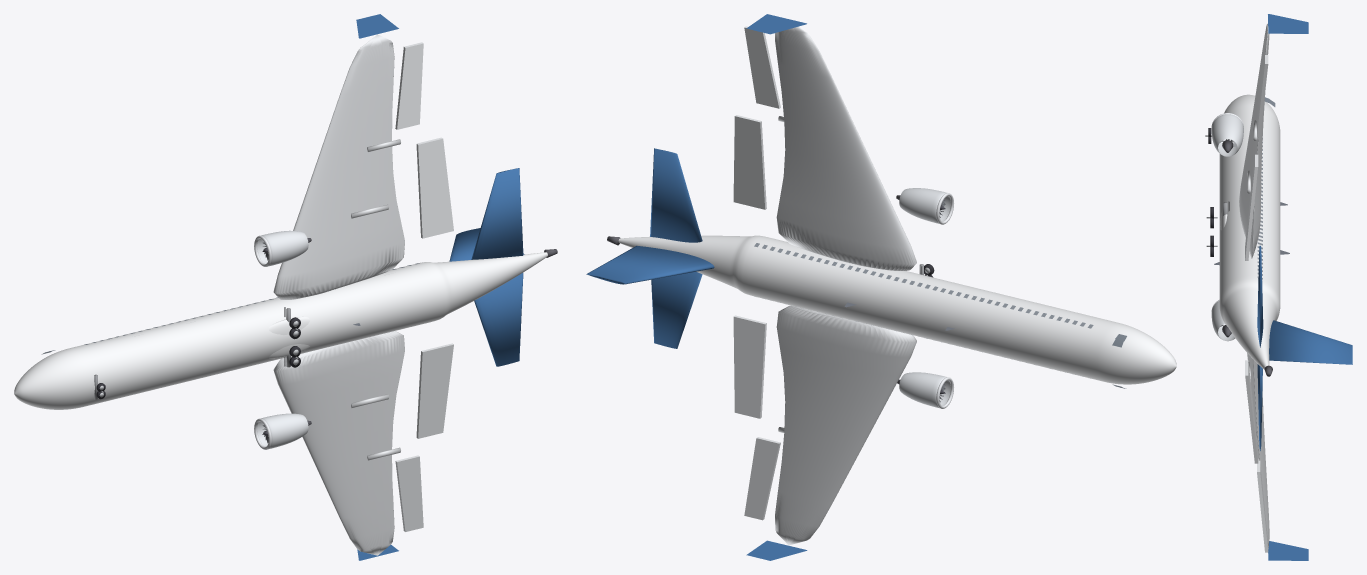
File: b737-max8.glb
The picture shows the model from 3 angles, left to right: view 1: azimuth 30°, elevation 25°; view 2: azimuth 150°, elevation 25°; view 3: azimuth 270°, elevation 25°; orthographic projection.
Visible parts, largest first — view 1: Fuselage, Wing_R, Wing_L, HStab_R, HStab_L, Flap_R, Flap_L, Aileron_R, Aileron_L, Nacelle_-1_0, Nacelle_1_0, Fin (+1 smaller); view 2: Fuselage, Wing_L, Wing_R, HStab_R, Flap_L, Fin, HStab_L, Flap_R, Aileron_L, Aileron_R, Nacelle_-1_0, Nacelle_1_0 (+1 smaller); view 3: Fuselage, Fin, Wing_R, Wing_L, Nacelle_1_0, Sharklet_R, Sharklet_L, Flap_R, Flap_L, HStab_R, Aileron_L, Aileron_R (+2 smaller).
Part boxes in pixels (x1,y1,x2,y2): Fuselage: (14,252,547,409); Wing_R: (273,34,404,299); Wing_L: (273,331,404,555); HStab_R: (471,168,523,259); HStab_L: (474,273,523,366); Flap_R: (416,137,453,238); Flap_L: (416,343,453,438); Aileron_R: (395,42,423,129); Aileron_L: (395,455,423,531); Nacelle_-1_0: (257,413,308,449); Nacelle_1_0: (257,230,308,266); Fin: (449,228,524,261); Fuselage: (618,235,1176,384); Wing_L: (775,305,916,545); Wing_R: (775,26,916,270); HStab_R: (650,148,702,242); Flap_L: (733,315,766,418); Fin: (586,245,714,284); HStab_L: (651,271,702,348); Flap_R: (733,115,766,209); Aileron_L: (744,437,780,520); Aileron_R: (744,26,780,108); Nacelle_-1_0: (899,372,950,408); Nacelle_1_0: (899,188,950,223); Fuselage: (1219,94,1280,369); Fin: (1269,320,1352,364); Wing_R: (1239,23,1269,258); Wing_L: (1247,353,1269,548); Nacelle_1_0: (1211,114,1243,156); Sharklet_R: (1268,14,1308,33); Sharklet_L: (1268,541,1308,560); Flap_R: (1245,154,1258,260); Flap_L: (1245,360,1258,463); HStab_R: (1257,245,1263,347); Aileron_L: (1257,460,1268,552); Aileron_R: (1257,55,1268,136).
Size of the model in its own units: 39.8 by 35.92 by 9.12.
